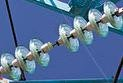gap: (28, 24, 80, 67)
